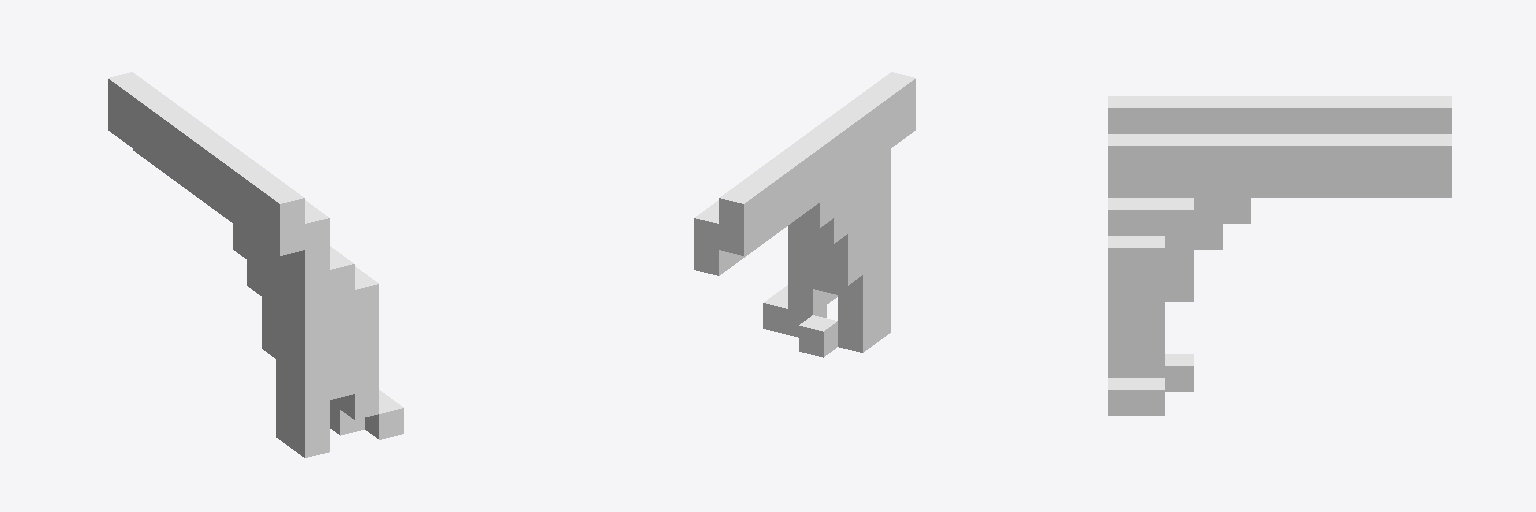
Rendered from map1.59.vox.obj.
3 views of the same model, side by side, from view 1: azimuth 30°, elevation 25°; view 2: azimuth 150°, elevation 25°; view 3: azimuth 270°, elevation 25° (orthographic).
Visible parts, largest first — view 1: object 1; view 2: object 1; view 3: object 1.
Part boxes in pixels (left/top/right/bottom): object 1: left=108, top=72, right=403, bottom=457; object 1: left=694, top=72, right=915, bottom=357; object 1: left=1108, top=96, right=1451, bottom=415.
Bounding box in the file's own units: 10 × 20 × 24.